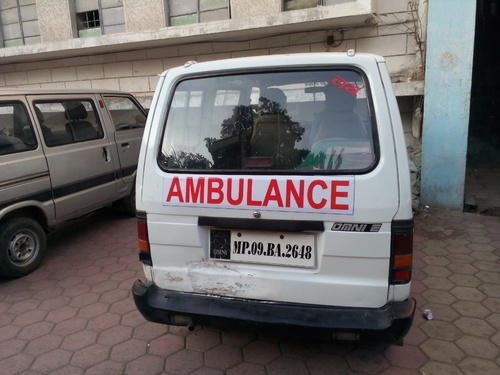ambulance: (134, 48, 422, 357), (167, 173, 353, 214)
numberplate: (204, 226, 322, 271)
